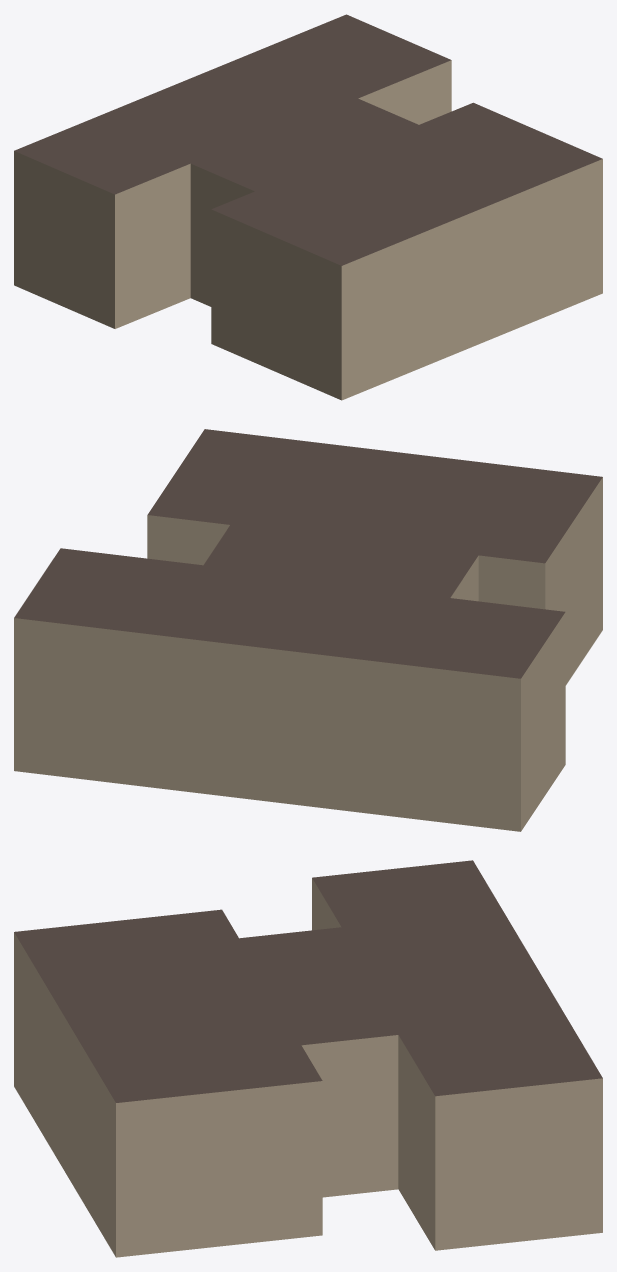
The picture shows the model from 3 angles, top to bottom: view 1: azimuth 30°, elevation 25°; view 2: azimuth 150°, elevation 25°; view 3: azimuth 270°, elevation 25°; orthographic projection. The views are drawn at different scales.
Visible parts, largest first — view 1: HP-w293418157; view 2: HP-w293418157; view 3: HP-w293418157.
Boxes of the visible parts, <box> form: HP-w293418157: <box>14,14,602,400</box>; HP-w293418157: <box>14,429,602,831</box>; HP-w293418157: <box>14,860,602,1257</box>.
Size of the model in its own units: 30.34 by 9 by 31.1.
